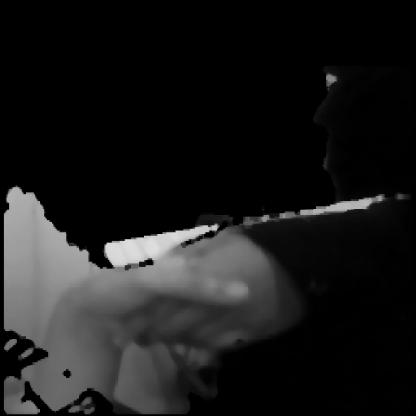handshake: (26, 209, 354, 398)
